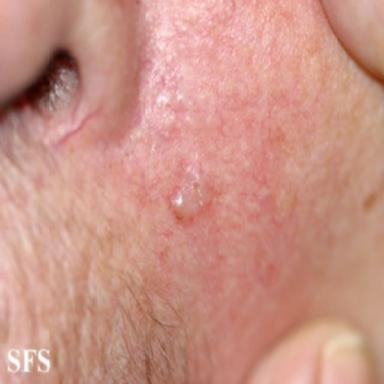basal-cell-carcinoma: (170, 165, 212, 221)
